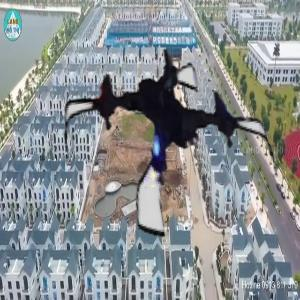drone: (60, 36, 279, 255)
